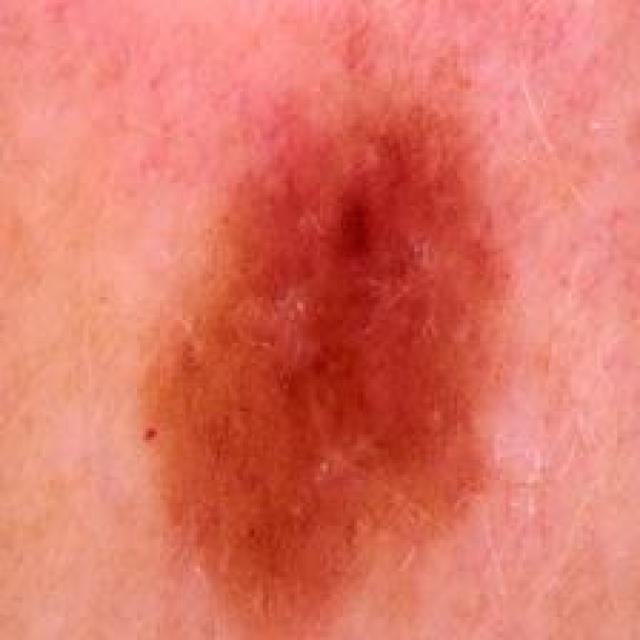Cancer: (136, 107, 507, 640)
